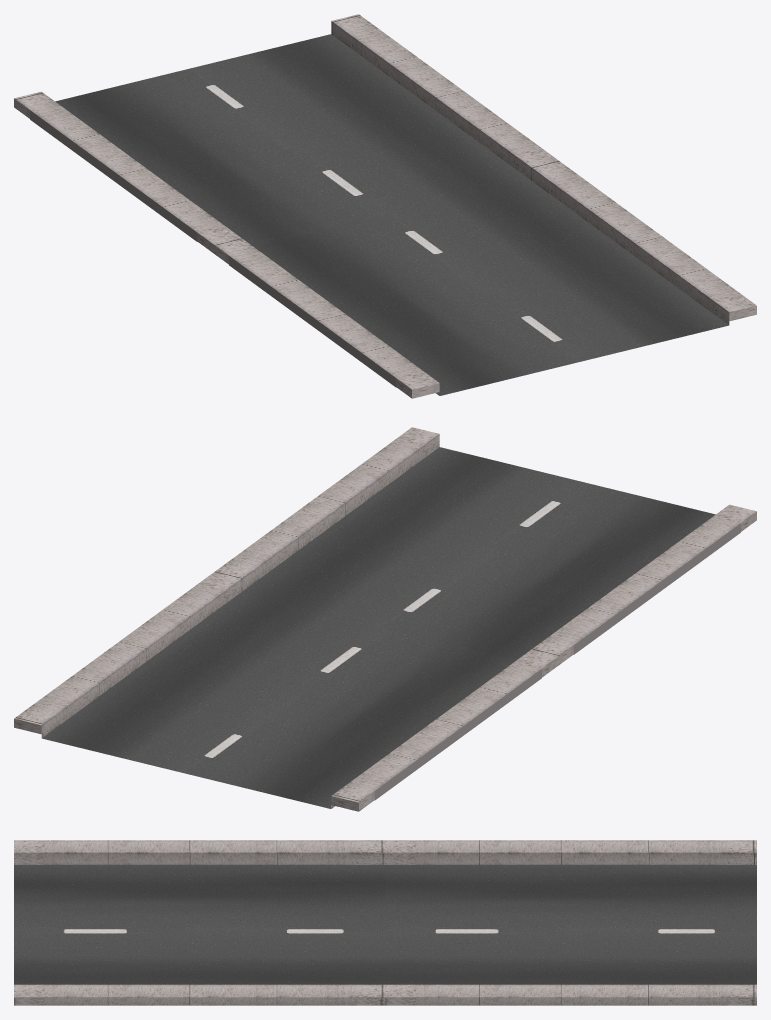
The model's file is road segment BB.FBX.
3 renders of one model, top to bottom at view 1: azimuth 30°, elevation 25°; view 2: azimuth 150°, elevation 25°; view 3: azimuth 270°, elevation 25°, orthographic. The views are drawn at different scales.
Visible parts, largest first — view 1: Box002; view 2: Box002; view 3: Box002.
Boxes of the visible parts, x1,y1,x2,y2 form: Box002: (14,14,756,398); Box002: (14,427,756,811); Box002: (14,840,756,1005).
Size of the model in its own units: 24 by 0.8736 by 47.99.
